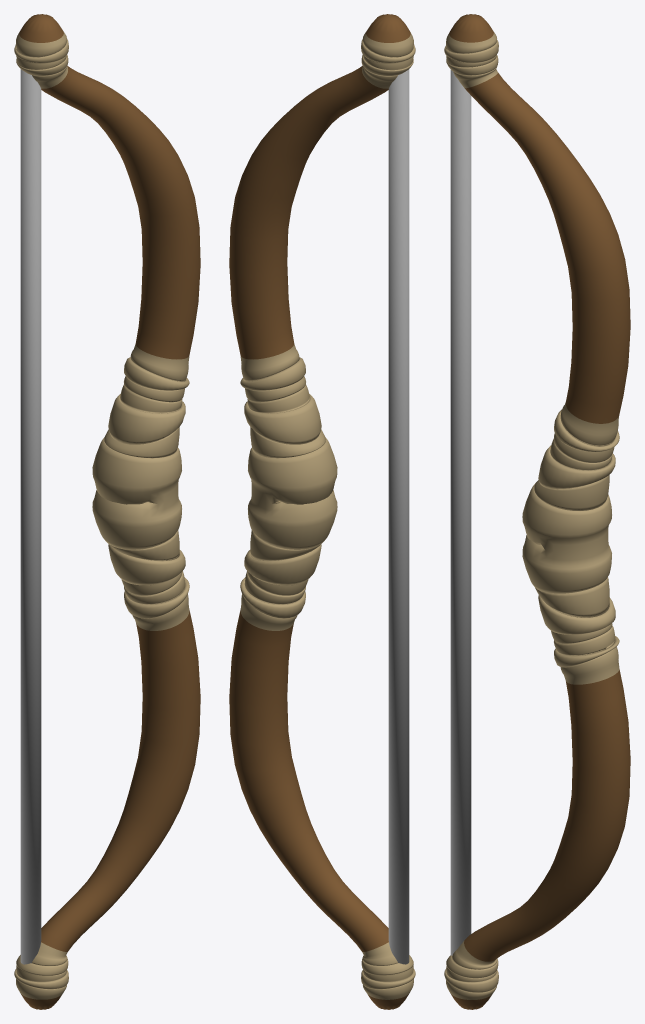
File: Bow.fbx
3 renders of one model, left to right at view 1: azimuth 30°, elevation 25°; view 2: azimuth 150°, elevation 25°; view 3: azimuth 330°, elevation 25°, orthographic.
Parts seen in each view (by area): view 1: Bow; view 2: Bow; view 3: Bow.
Boxes of the visible parts, x1,y1,x2,y2 form: Bow: [14, 14, 200, 1009]; Bow: [229, 14, 415, 1009]; Bow: [444, 14, 630, 1009].
Size of the model in its own units: 21.55 by 114 by 9.39.
